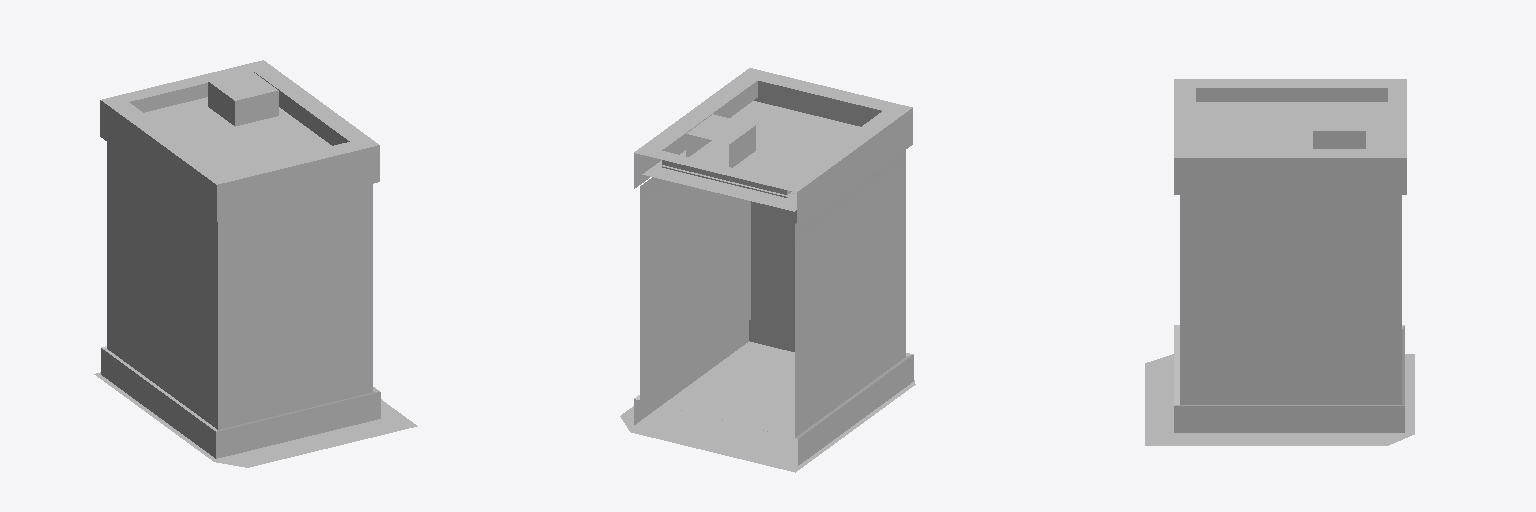
Rendered from Jubilife City Building 2.obj.
3 renders of one model, left to right at view 1: azimuth 30°, elevation 25°; view 2: azimuth 150°, elevation 25°; view 3: azimuth 270°, elevation 25°, orthographic.
Parts seen in each view (by area): view 1: polygon3, polygon2, polygon1; view 2: polygon3, polygon2, polygon1, polygon0; view 3: polygon3, polygon2, polygon1.
Boxes of the visible parts, <box> form: polygon3: <box>100,60,380,458</box>; polygon2: <box>116,159,352,424</box>; polygon1: <box>94,97,417,467</box>; polygon3: <box>634,68,913,465</box>; polygon2: <box>649,167,896,430</box>; polygon1: <box>620,163,915,472</box>; polygon0: <box>760,204,796,340</box>; polygon3: <box>1174,79,1406,432</box>; polygon2: <box>1199,208,1383,404</box>; polygon1: <box>1145,102,1414,445</box>.
Size of the model in its own units: 69.75 by 101 by 85.78.